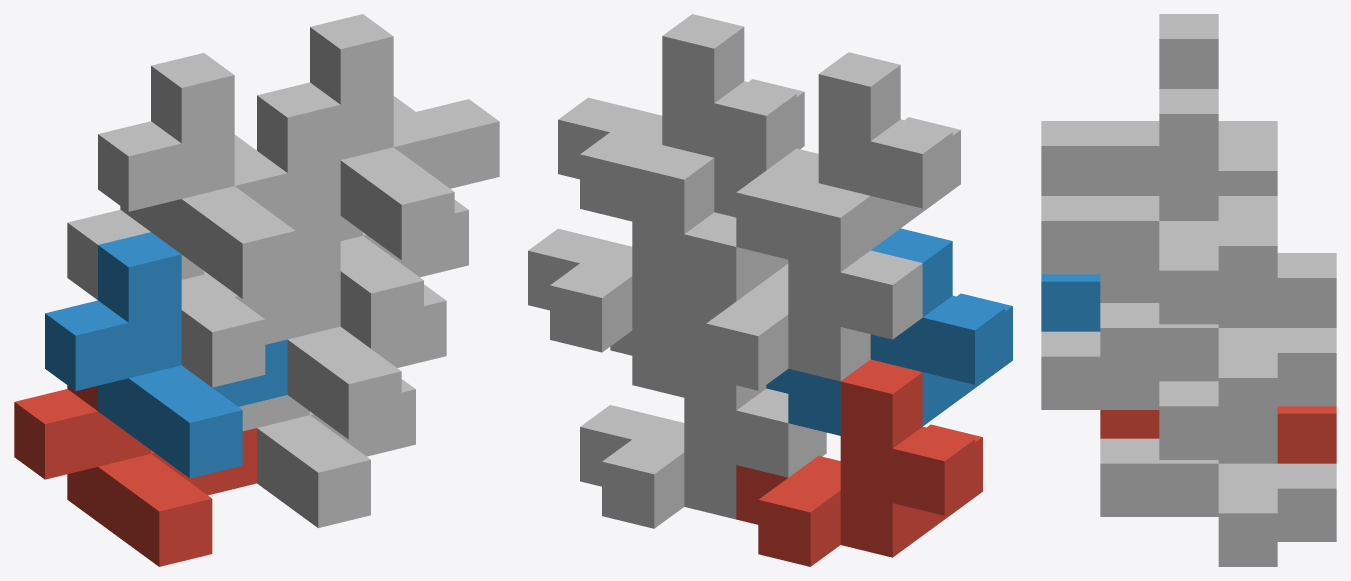
Rendered from tiling.obj.
3 views of the same model, side by side, from view 1: azimuth 30°, elevation 25°; view 2: azimuth 150°, elevation 25°; view 3: azimuth 270°, elevation 25° (orthographic). The views are drawn at different scales.
Visible parts, largest first — view 1: copy_1_domain_8, copy_1_domain_4, copy_1_domain_2, copy_1_domain_1, copy_1_domain_6, copy_1_domain_5, copy_1_domain_3, copy_1_domain_7; view 2: copy_1_domain_1, copy_1_domain_3, copy_1_domain_7, copy_1_domain_4, copy_1_domain_8, copy_1_domain_5, copy_1_domain_2, copy_1_domain_6; view 3: copy_1_domain_8, copy_1_domain_7, copy_1_domain_5, copy_1_domain_4, copy_1_domain_6, copy_1_domain_3, copy_1_domain_1, copy_1_domain_2.
Part boxes in pixels (x1,y1,x2,y2): copy_1_domain_8: (257, 14, 499, 260); copy_1_domain_4: (98, 53, 340, 298); copy_1_domain_2: (45, 232, 287, 478); copy_1_domain_1: (14, 385, 256, 566); copy_1_domain_6: (204, 215, 446, 439); copy_1_domain_5: (239, 379, 415, 527); copy_1_domain_3: (67, 206, 265, 387); copy_1_domain_7: (340, 200, 468, 348); copy_1_domain_1: (736, 359, 982, 566); copy_1_domain_3: (684, 183, 922, 390); copy_1_domain_7: (528, 145, 766, 352); copy_1_domain_4: (714, 52, 960, 259); copy_1_domain_8: (558, 14, 804, 221); copy_1_domain_5: (580, 343, 826, 528); copy_1_domain_2: (766, 228, 1012, 435); copy_1_domain_6: (610, 254, 788, 397); copy_1_domain_8: (1041, 89, 1277, 324); copy_1_domain_7: (1100, 196, 1336, 431); copy_1_domain_5: (1100, 435, 1336, 566); copy_1_domain_4: (1041, 14, 1277, 195); copy_1_domain_6: (1041, 331, 1277, 459); copy_1_domain_3: (1100, 121, 1336, 327); copy_1_domain_1: (1100, 406, 1336, 463); copy_1_domain_2: (1041, 274, 1100, 331).
Bounding box in the file's own units: 8 × 8 × 5.
